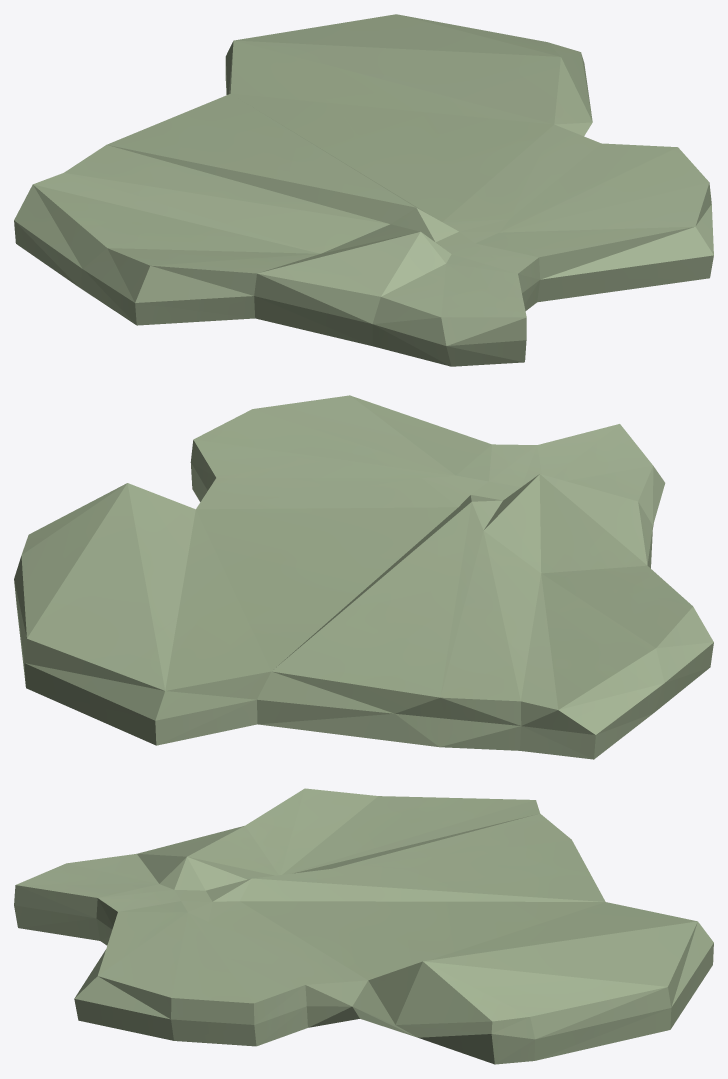
File: grass_cluster_2.obj
The picture shows the model from 3 angles, top to bottom: view 1: azimuth 30°, elevation 25°; view 2: azimuth 150°, elevation 25°; view 3: azimuth 270°, elevation 25°; orthographic projection. The views are drawn at different scales.
Parts seen in each view (by area): view 1: grass_cluster_2_Mesh; view 2: grass_cluster_2_Mesh; view 3: grass_cluster_2_Mesh.
Boxes of the visible parts, box(x1,y1,x2,y2) form: grass_cluster_2_Mesh: box(14, 14, 713, 366); grass_cluster_2_Mesh: box(14, 395, 713, 759); grass_cluster_2_Mesh: box(14, 788, 713, 1064).
Size of the model in its own units: 1.34 by 0.2416 by 1.56.
